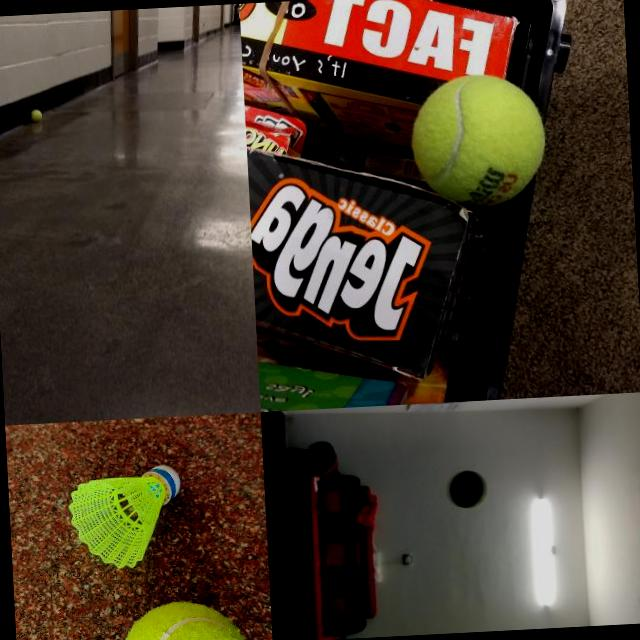Tennis Ball: (406, 69, 550, 214), (116, 597, 250, 640), (447, 470, 488, 510), (30, 108, 42, 122)
